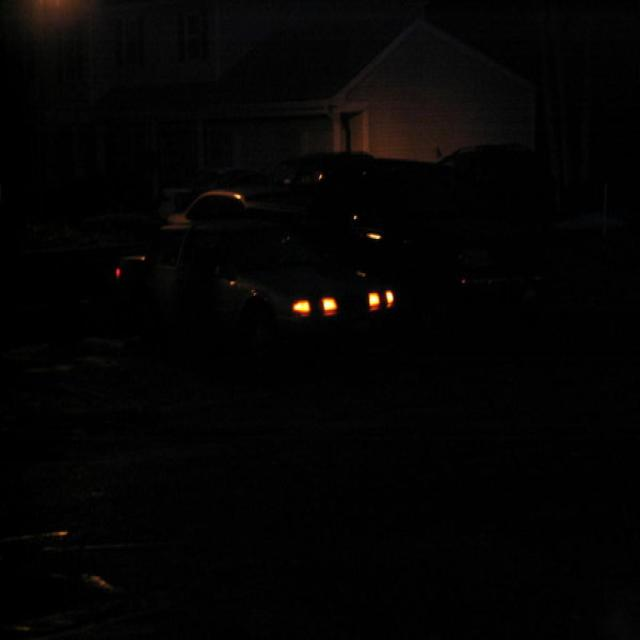car: (114, 180, 365, 381), (291, 147, 447, 335), (404, 132, 599, 277), (13, 157, 165, 283)
